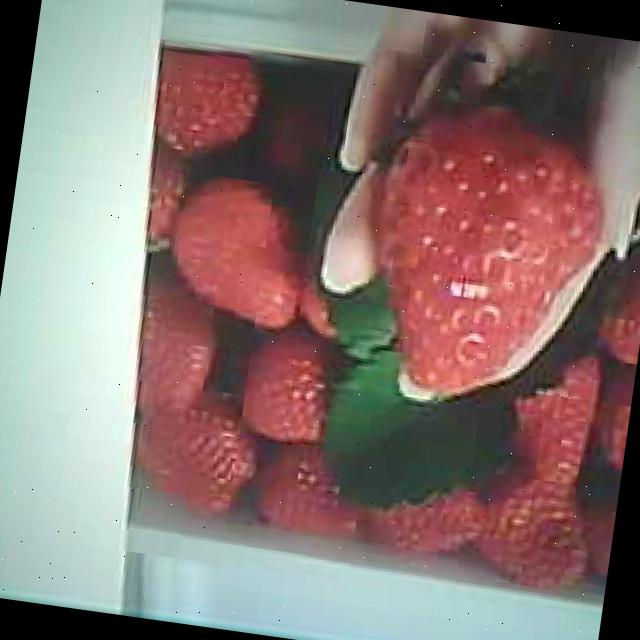strawberry: (355, 93, 616, 404)
